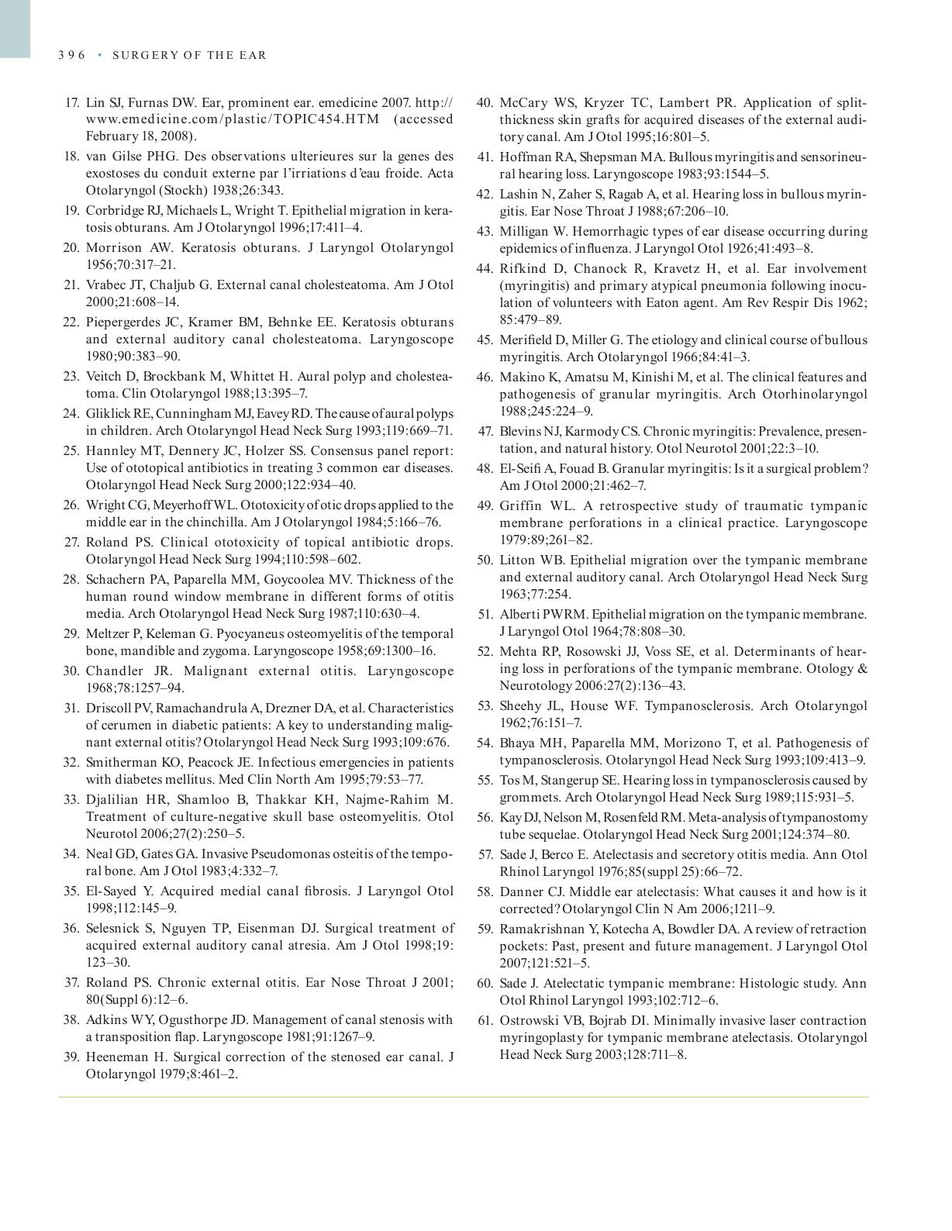header: (112, 49, 267, 61)
list: (62, 95, 456, 1083), (474, 95, 869, 1064)
